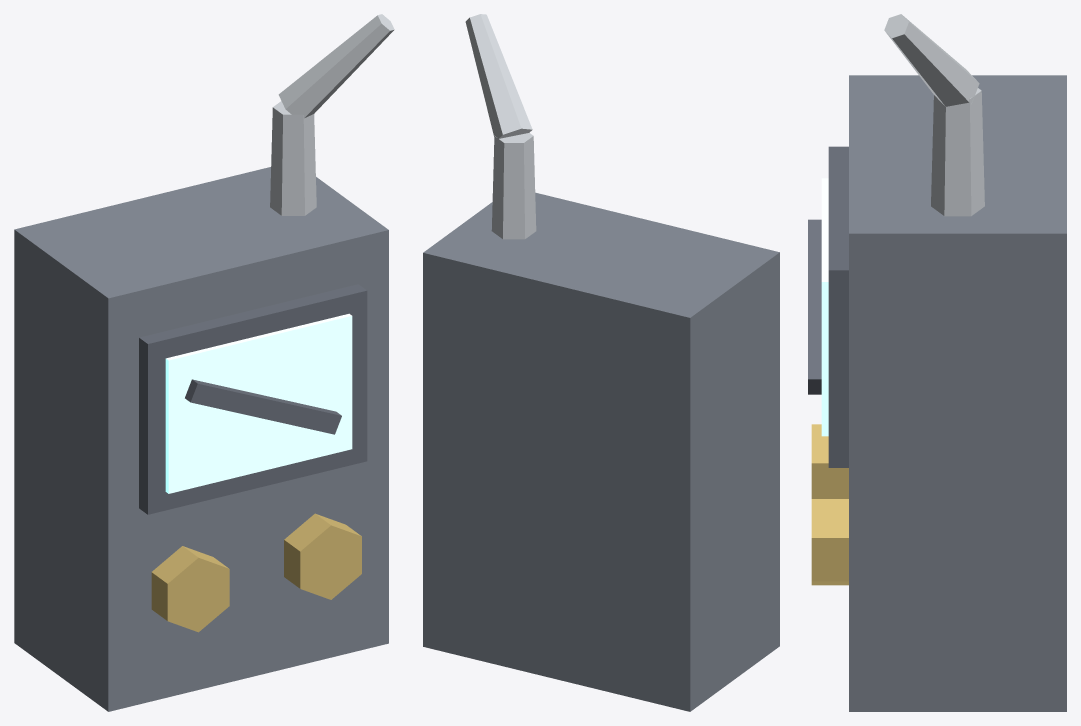
Rendered from LP_Item_V05.fbx.
3 renders of one model, left to right at view 1: azimuth 30°, elevation 25°; view 2: azimuth 150°, elevation 25°; view 3: azimuth 270°, elevation 25°, orthographic. The views are drawn at different scales.
Parts seen in each view (by area): view 1: ArtifactMesh; view 2: ArtifactMesh; view 3: ArtifactMesh.
Boxes of the visible parts, x1,y1,x2,y2 form: ArtifactMesh: (14,14,394,711); ArtifactMesh: (423,14,779,711); ArtifactMesh: (808,14,1066,711).
Bounding box in the file's own units: 0.1201 × 0.2283 × 0.076.
